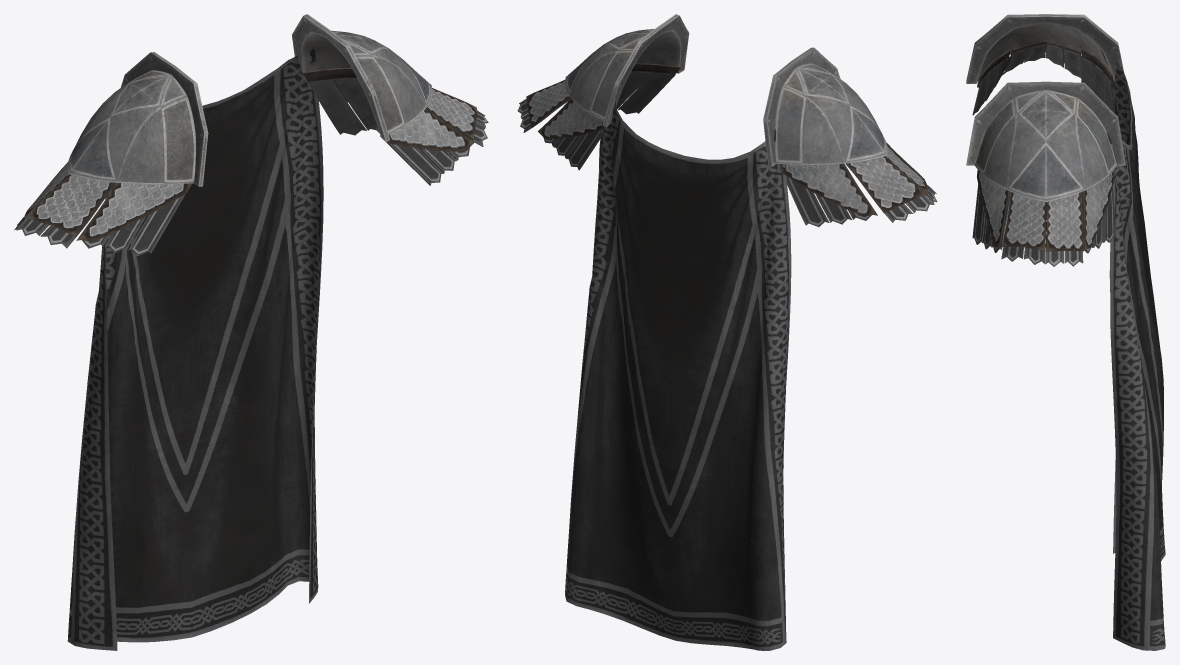
Rendered from sk_dwarf_erebor_pauldron_plate_cape_elite_b.fbx.
The picture shows the model from 3 angles, left to right: view 1: azimuth 30°, elevation 25°; view 2: azimuth 150°, elevation 25°; view 3: azimuth 270°, elevation 25°; orthographic projection. The views are drawn at different scales.
Parts seen in each view (by area): view 1: sk_dwarf_erebor_pauldron_plate_cape_elite_b.1, sk_dwarf_erebor_pauldron_plate_cape_elite_b.0; view 2: sk_dwarf_erebor_pauldron_plate_cape_elite_b.1, sk_dwarf_erebor_pauldron_plate_cape_elite_b.0; view 3: sk_dwarf_erebor_pauldron_plate_cape_elite_b.0, sk_dwarf_erebor_pauldron_plate_cape_elite_b.1.
Boxes of the visible parts, x1,y1,x2,y2 form: sk_dwarf_erebor_pauldron_plate_cape_elite_b.1: (67, 49, 323, 650); sk_dwarf_erebor_pauldron_plate_cape_elite_b.0: (14, 14, 488, 256); sk_dwarf_erebor_pauldron_plate_cape_elite_b.1: (565, 102, 791, 650); sk_dwarf_erebor_pauldron_plate_cape_elite_b.0: (517, 14, 937, 226); sk_dwarf_erebor_pauldron_plate_cape_elite_b.0: (966, 14, 1125, 266); sk_dwarf_erebor_pauldron_plate_cape_elite_b.1: (1100, 49, 1165, 650).
Bounding box in the file's own units: 0.9344 × 0.3811 × 1.2.
Materials: 2 (2 with a texture image).
